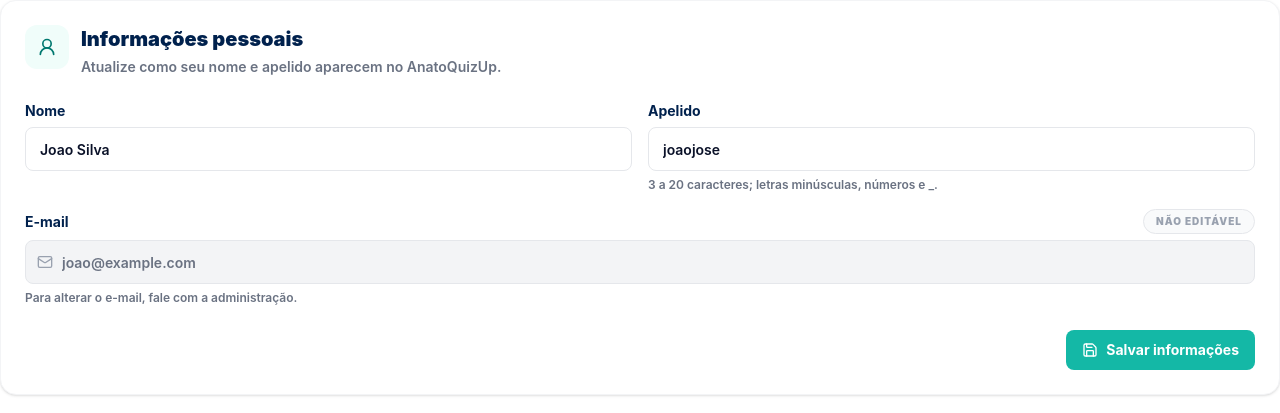
Test: InformacoesPessoaisForm › valida nome vazio no cliente
Clear the field labelled "Nome": x=328, y=149 [25,127,632,171]
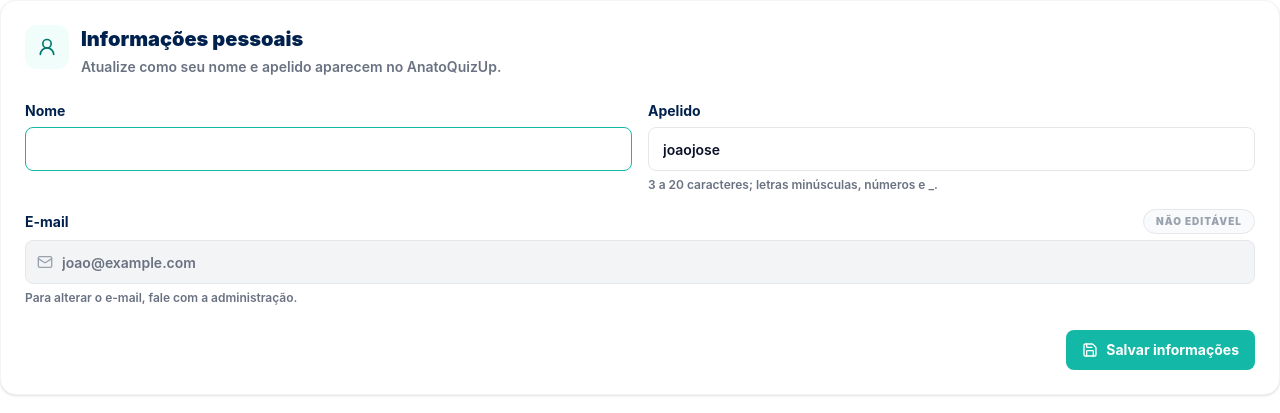
Click the button "Salvar informações": x=1161, y=350 [1066,330,1255,370]
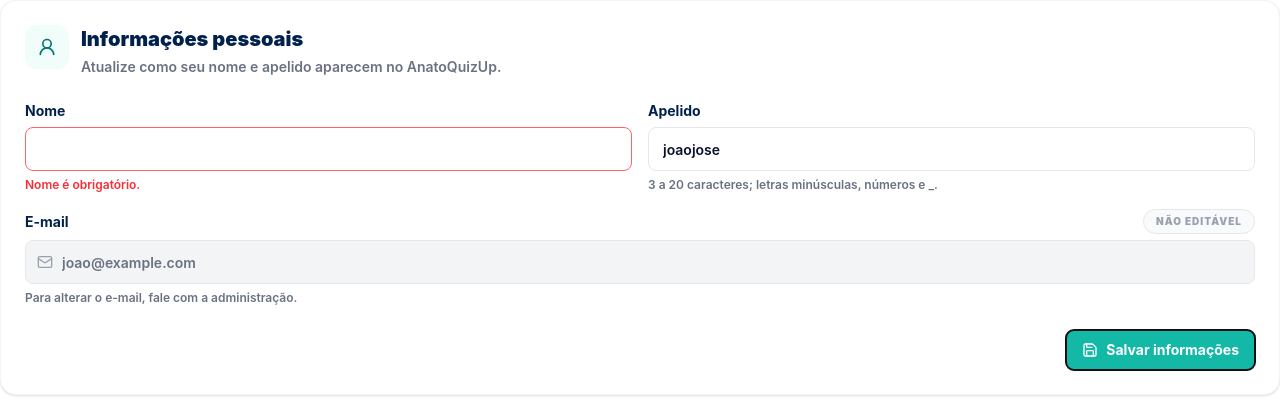
Now the text "Nome é obrigatório." is shown, box [25,177,140,192]
